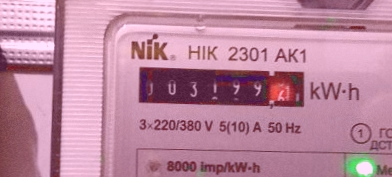0: (142, 75, 154, 96), (165, 75, 177, 95)
1: (209, 75, 219, 94)
3: (187, 78, 198, 97)
6: (276, 86, 286, 102)
9: (230, 75, 241, 95), (251, 77, 262, 96)
screen: (131, 59, 313, 116)
